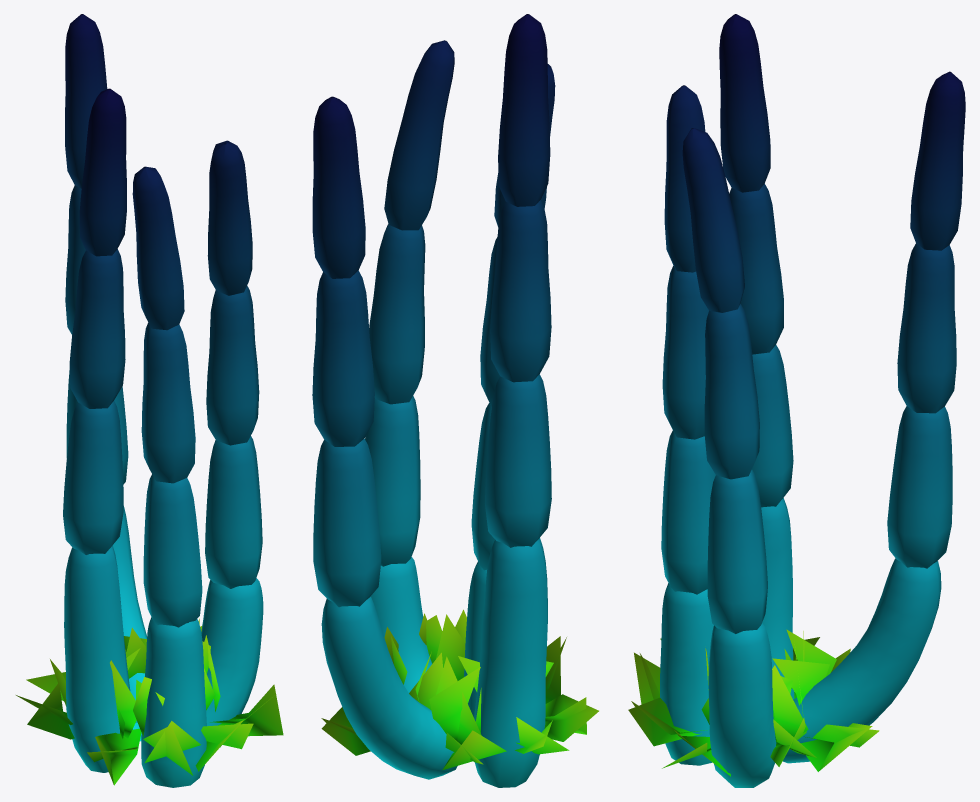
Rendered from Piko3.fbx.
3 views of the same model, side by side, from view 1: azimuth 30°, elevation 25°; view 2: azimuth 150°, elevation 25°; view 3: azimuth 270°, elevation 25° (orthographic). The views are drawn at different scales.
Parts seen in each view (by area): view 1: Piko3_LOD0; view 2: Piko3_LOD0; view 3: Piko3_LOD0.
Part boxes in pixels (left/top/right/bottom): Piko3_LOD0: left=16, top=14, right=283, bottom=787; Piko3_LOD0: left=312, top=14, right=598, bottom=787; Piko3_LOD0: left=628, top=14, right=965, bottom=787.
Size of what is drawn, in the model's own units: 75.99 by 237 by 100.
